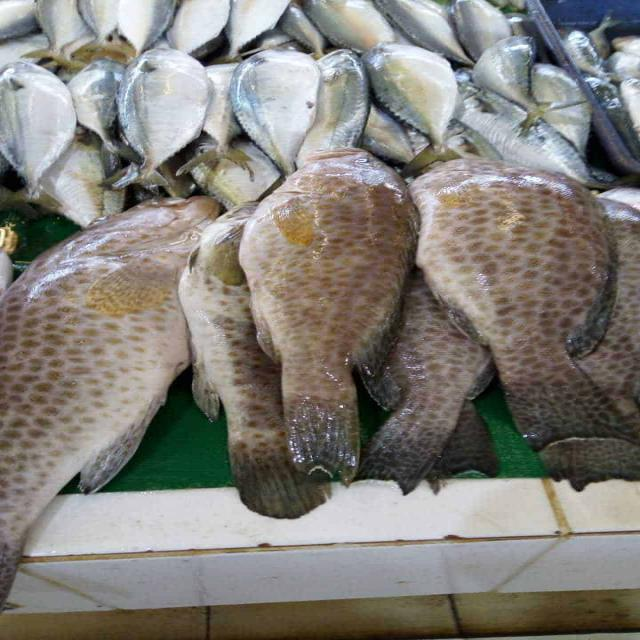grouper: (0, 194, 210, 547), (410, 154, 633, 456), (244, 146, 418, 484)
